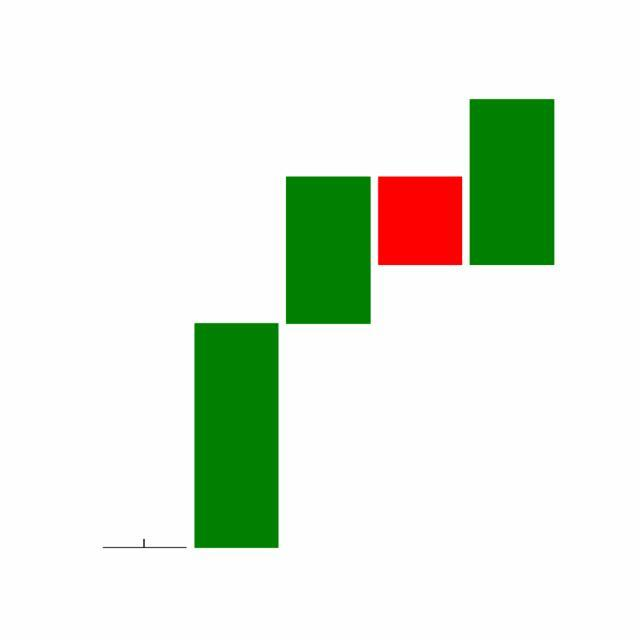Marubozu: (466, 98, 559, 268)
